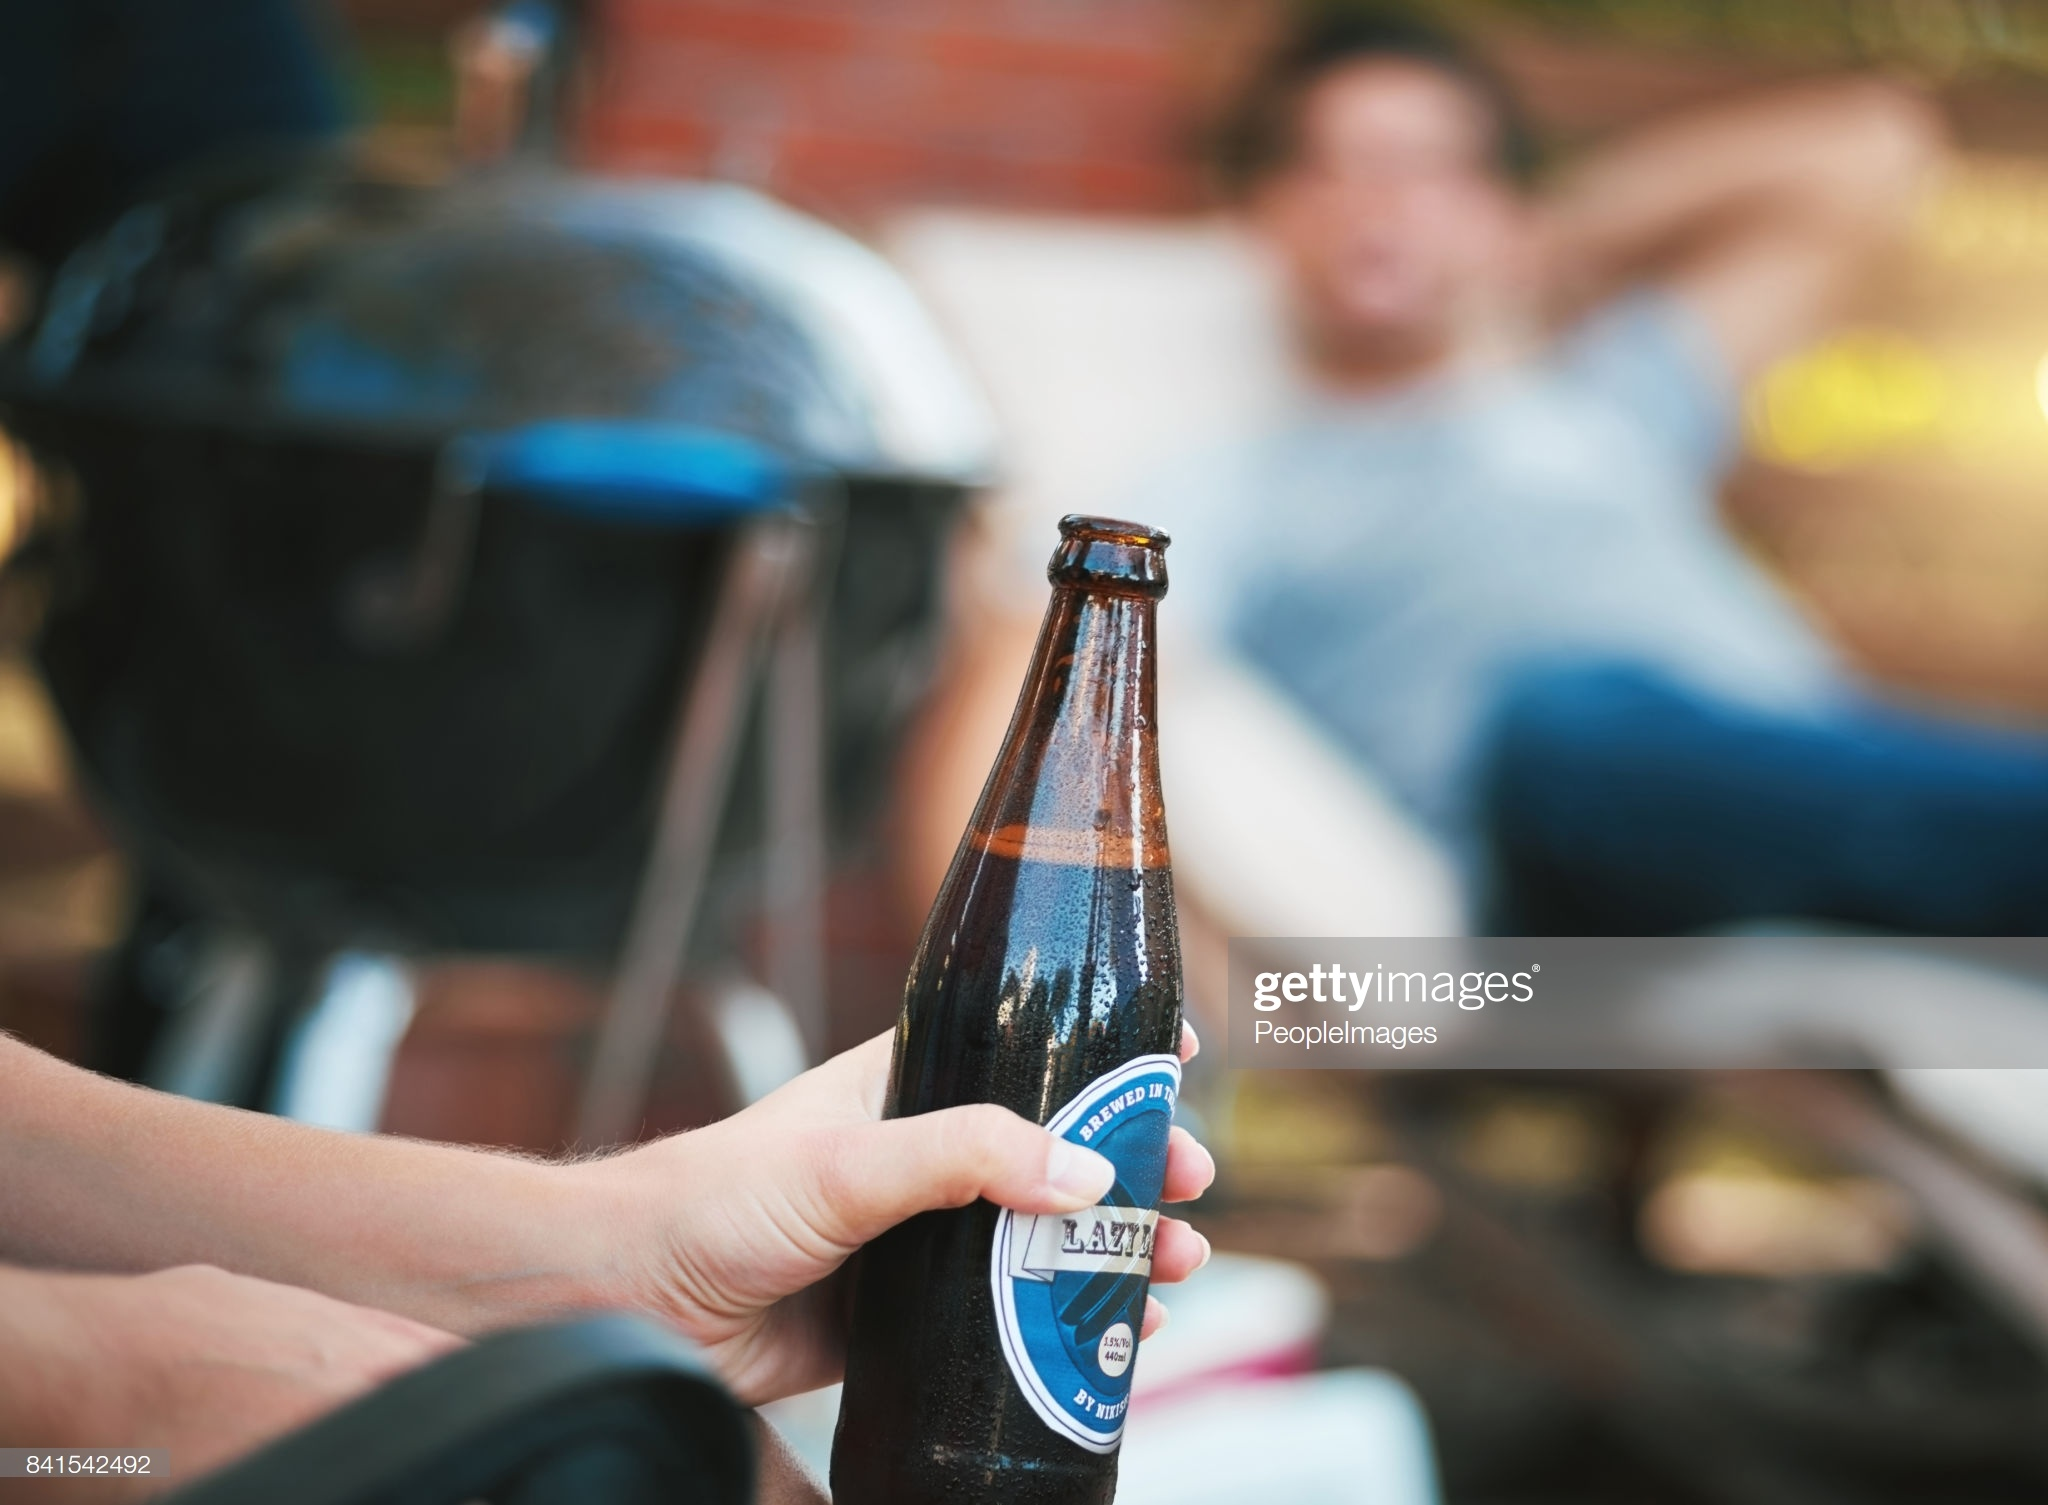beerBottle: (820, 515, 1197, 1505)
